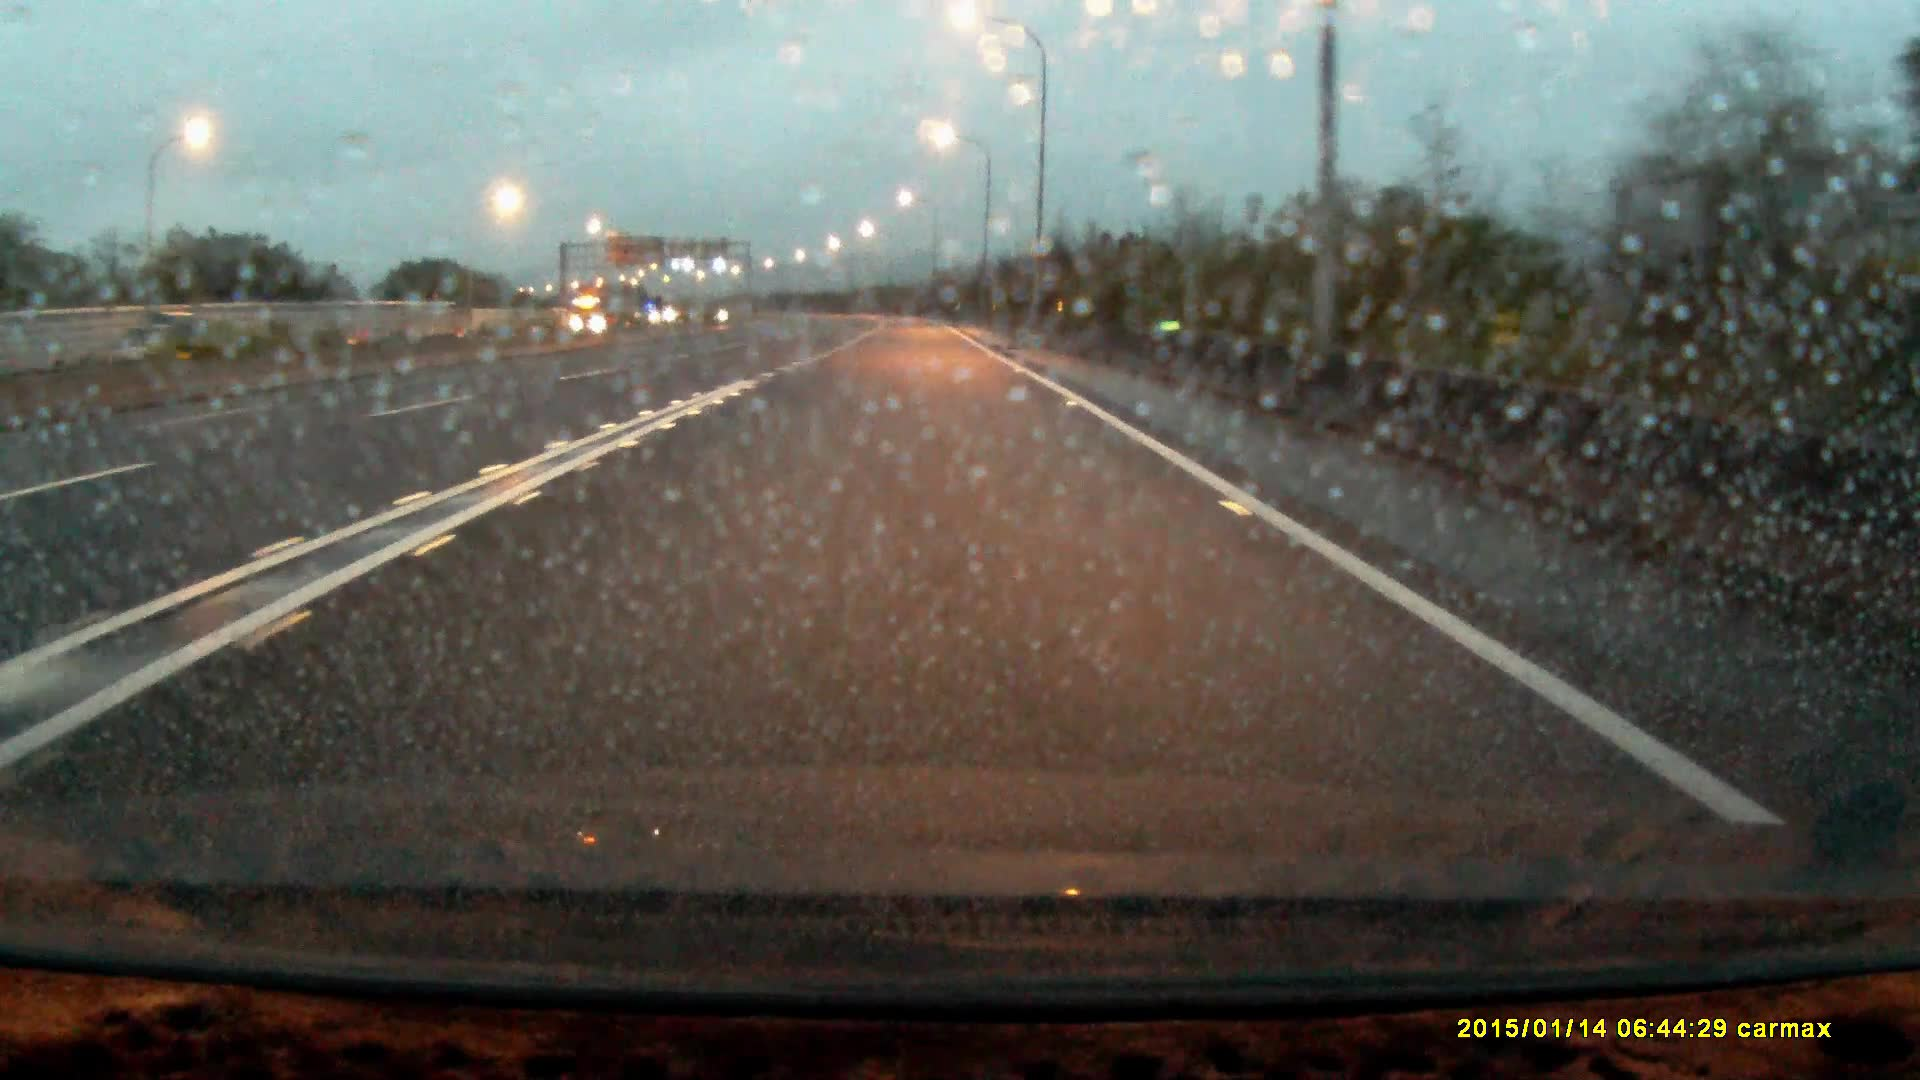vehicle: (568, 295, 617, 343)
